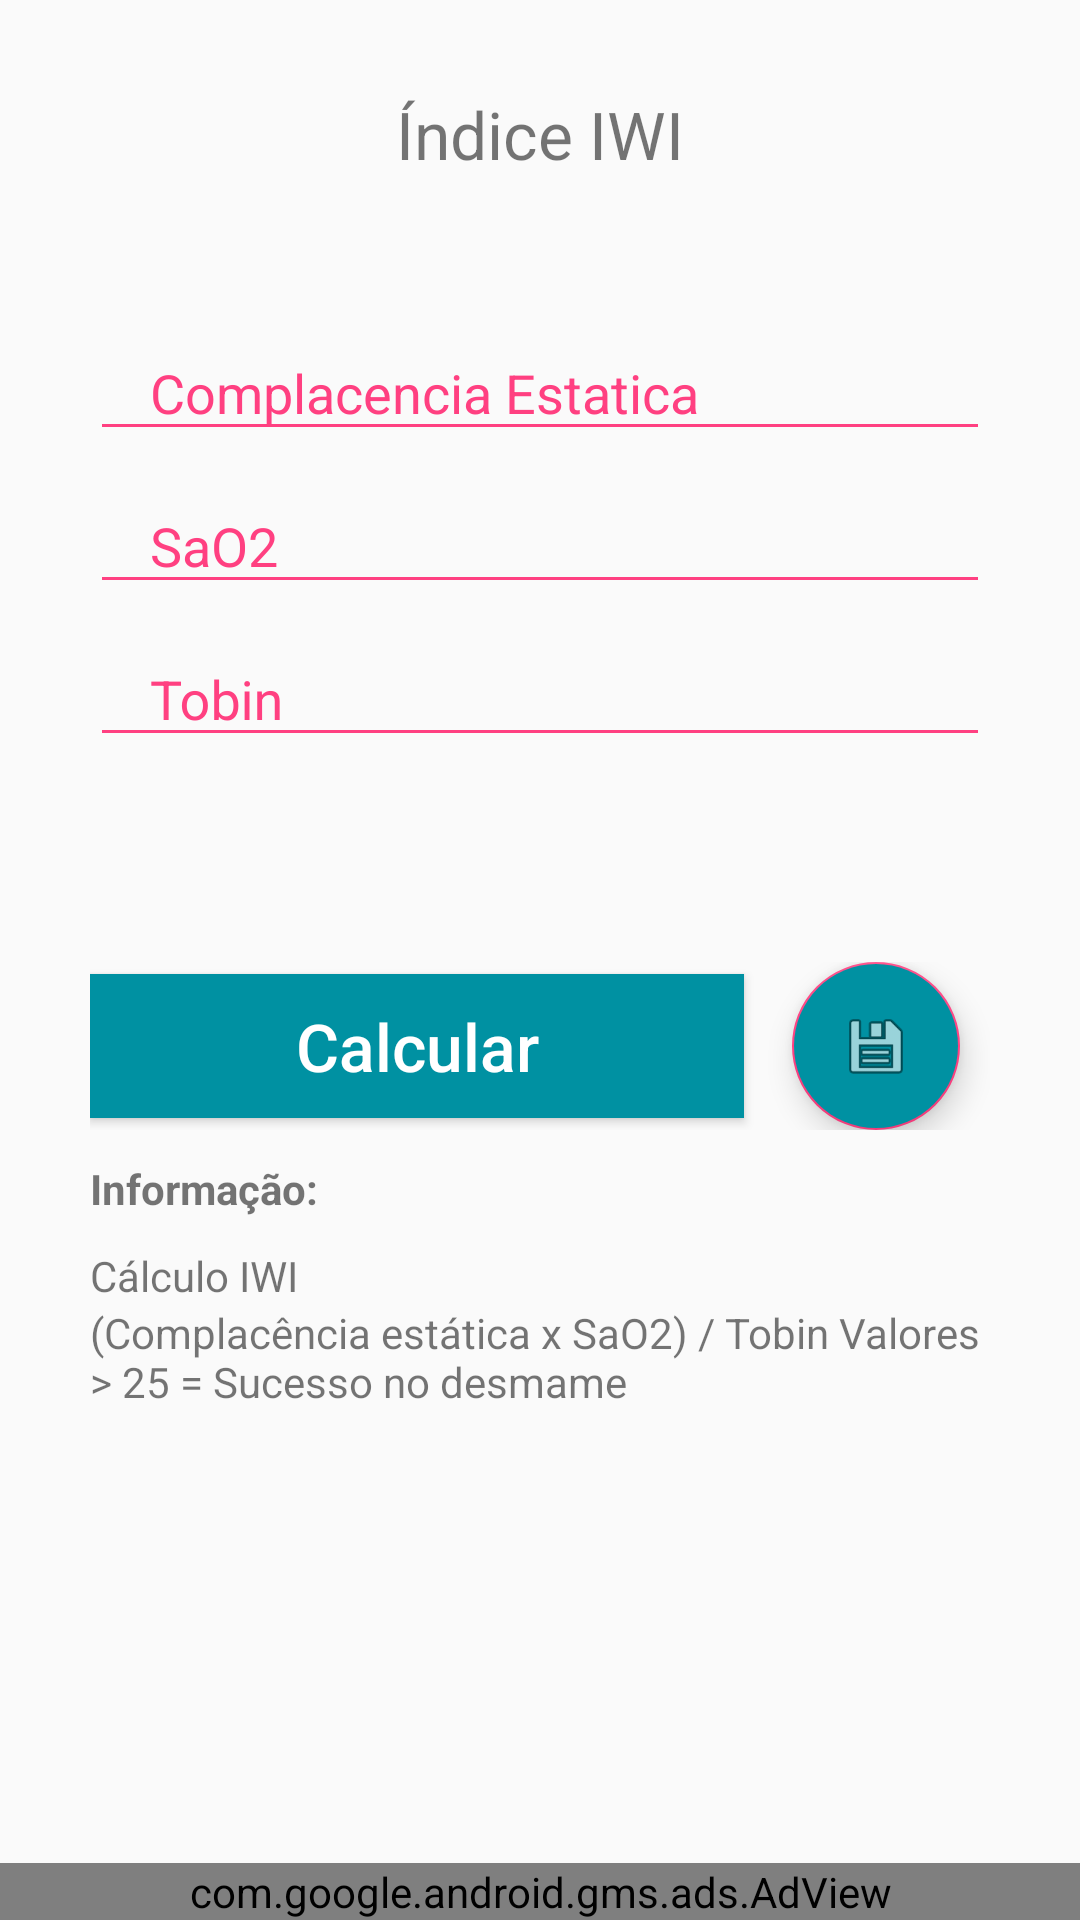

Where to tap for icons on this 1080 × 1920 app screen, as (x=x, y=y):
save: (x=876, y=1046)
